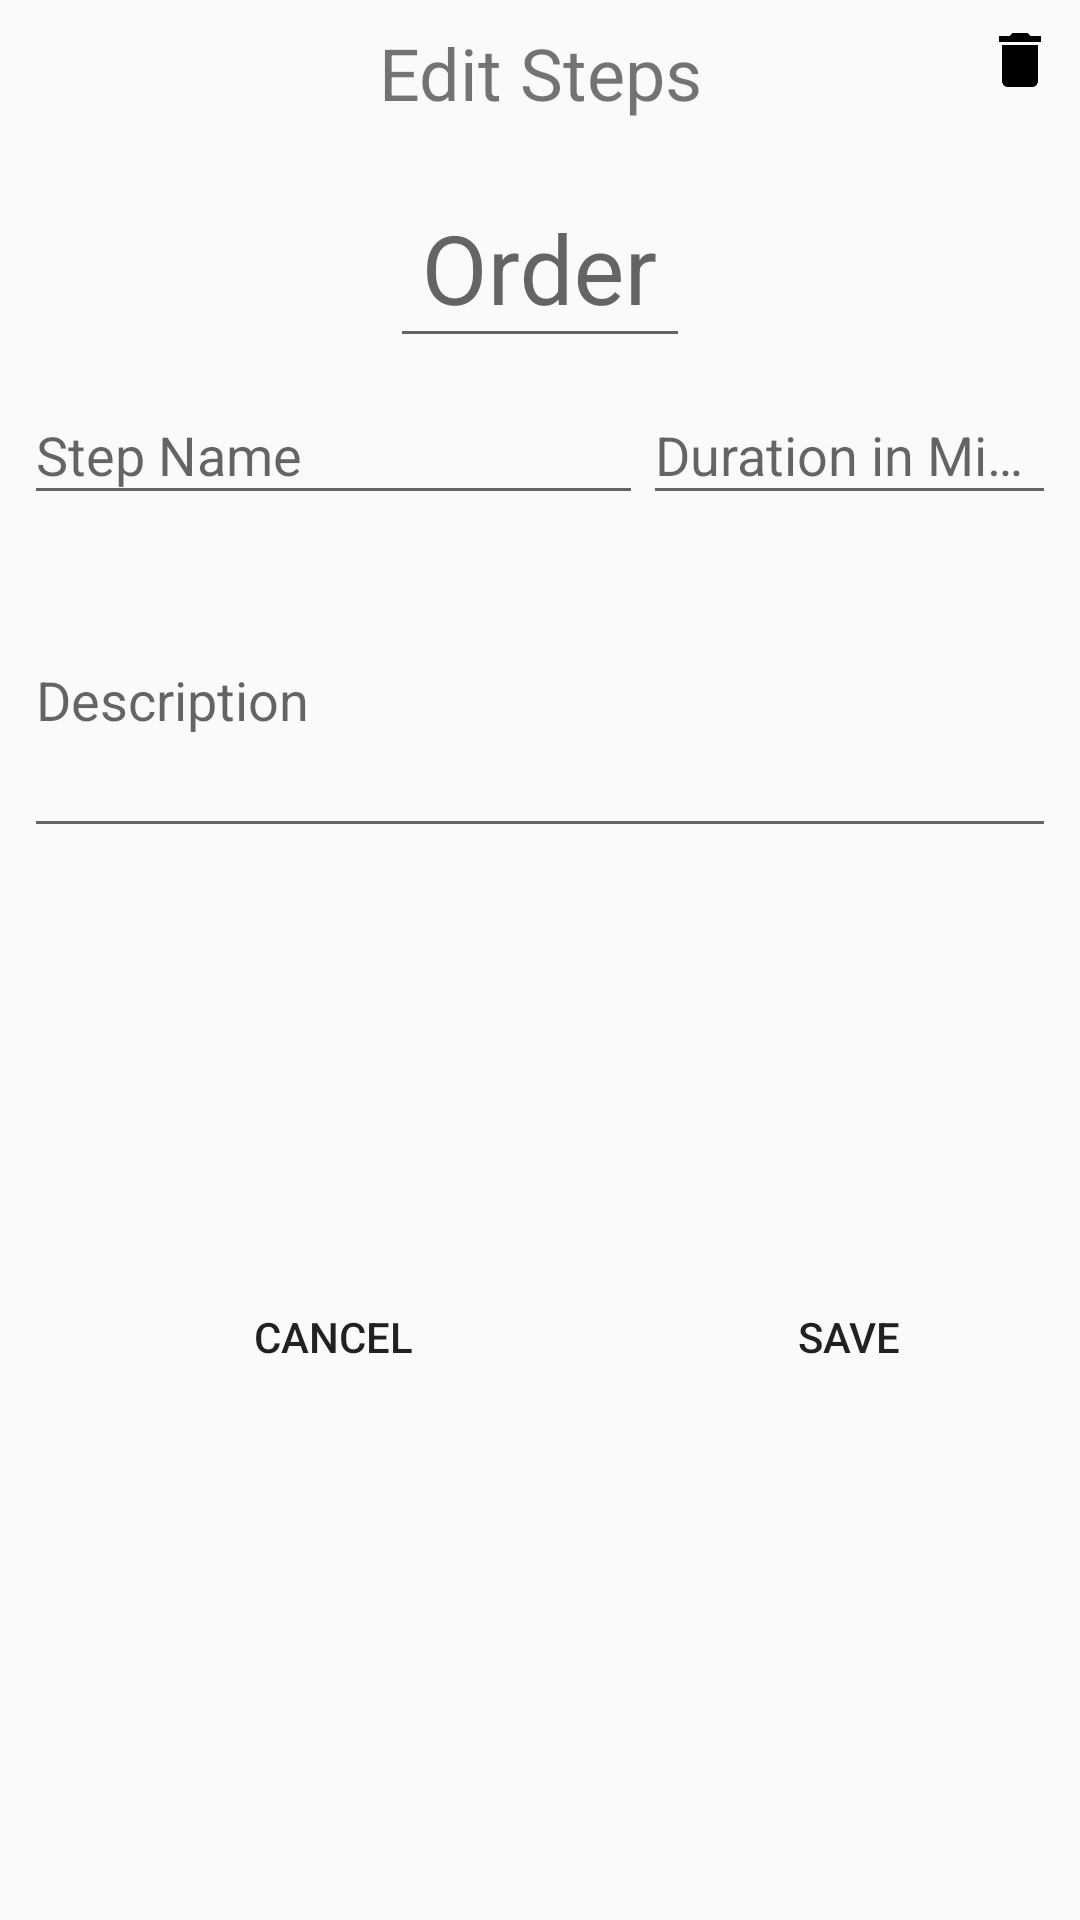

Where to tap for icons on this 1080*1920 app screen, as [x,y]:
delete icon: [1020,60]
